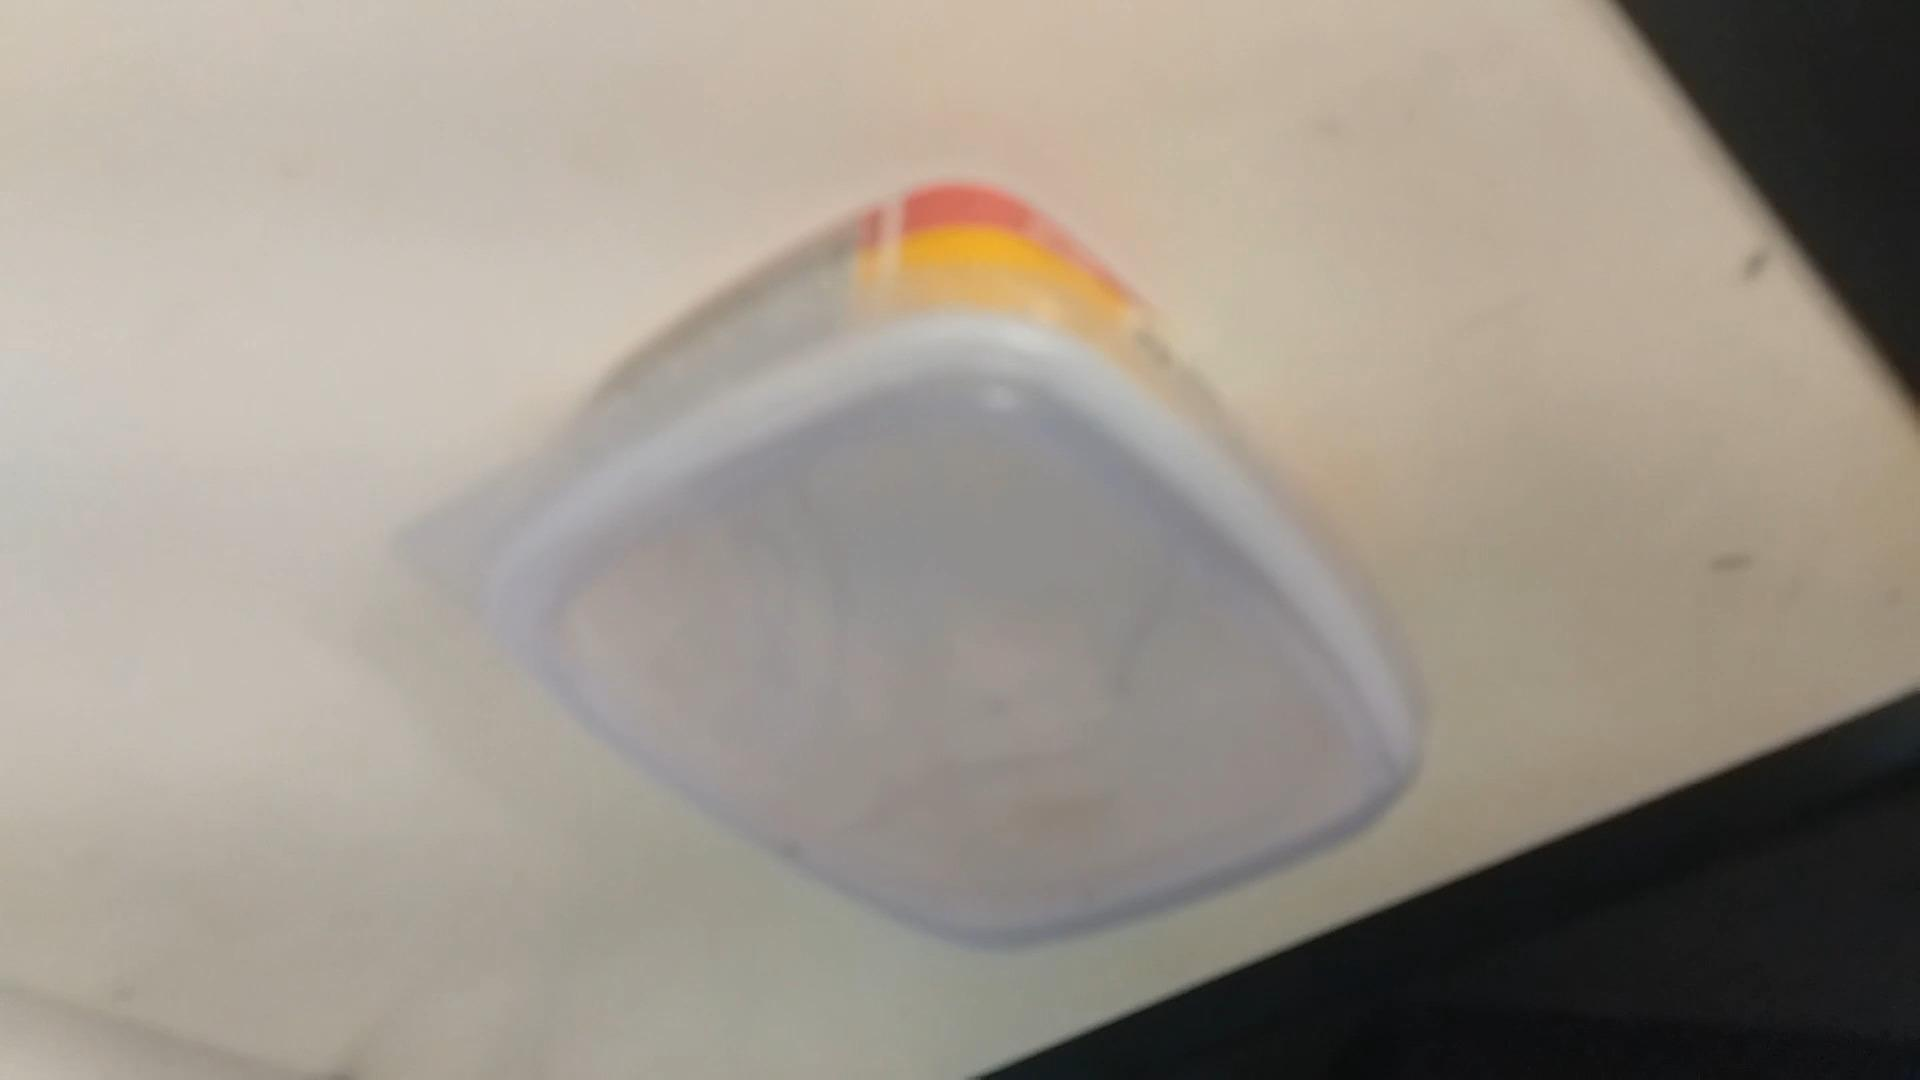butter: (410, 198, 1419, 955)
